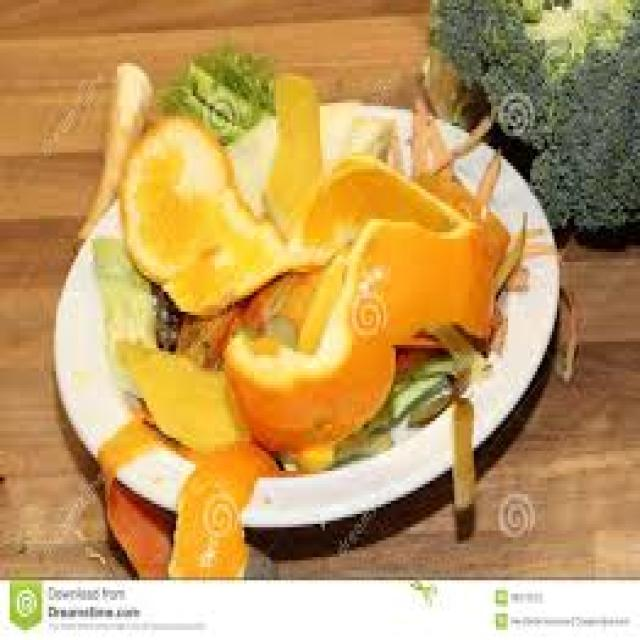Organik: (89, 52, 523, 458), (437, 0, 640, 216)
